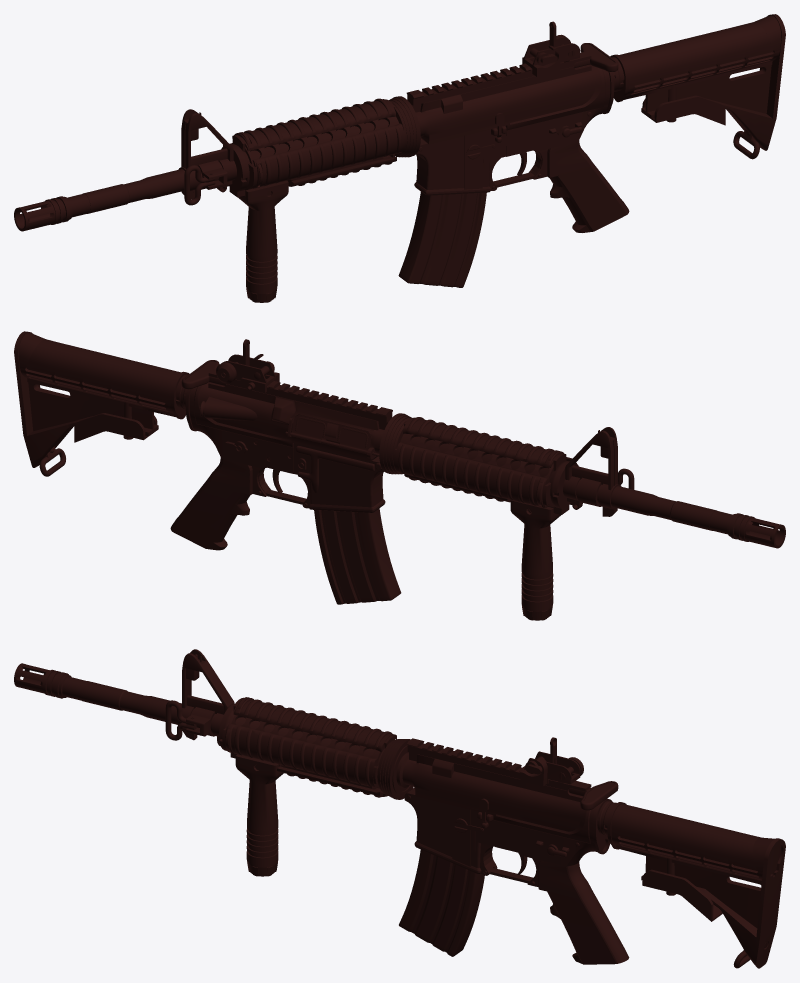
File: gun.glb
The picture shows the model from 3 angles, top to bottom: view 1: azimuth 30°, elevation 25°; view 2: azimuth 150°, elevation 25°; view 3: azimuth 330°, elevation 25°; orthographic projection.
Visible parts, largest first — view 1: Cylinder.079, Cylinder.080, Cylinder.083, Cylinder.081, Cylinder.082, Cylinder.068, Cylinder.084, Cylinder.001; view 2: Cylinder.079, Cylinder.080, Cylinder.083, Cylinder.081, Cylinder.082, Cylinder.068, Cylinder.084, Cylinder.086, Cylinder.001; view 3: Cylinder.079, Cylinder.080, Cylinder.083, Cylinder.081, Cylinder.082, Cylinder.068, Cylinder.084, Cylinder.001.
Boxes of the visible parts, <box> form: Cylinder.079: <box>619,14,785,159</box>; Cylinder.080: <box>389,54,628,157</box>; Cylinder.083: <box>14,109,288,302</box>; Cylinder.081: <box>221,98,406,192</box>; Cylinder.082: <box>414,113,629,232</box>; Cylinder.068: <box>398,150,487,287</box>; Cylinder.084: <box>406,21,591,105</box>; Cylinder.001: <box>573,43,618,71</box>; Cylinder.079: <box>14,331,180,476</box>; Cylinder.080: <box>171,371,411,474</box>; Cylinder.083: <box>510,427,785,620</box>; Cylinder.081: <box>393,417,578,509</box>; Cylinder.082: <box>170,443,385,550</box>; Cylinder.068: <box>314,508,401,604</box>; Cylinder.084: <box>208,339,392,422</box>; Cylinder.086: <box>291,415,371,454</box>; Cylinder.001: <box>181,360,225,389</box>; Cylinder.079: <box>611,804,785,968</box>; Cylinder.080: <box>377,739,626,866</box>; Cylinder.083: <box>14,649,283,876</box>; Cylinder.081: <box>219,697,396,797</box>; Cylinder.082: <box>404,787,629,964</box>; Cylinder.068: <box>399,830,484,956</box>; Cylinder.084: <box>407,737,591,791</box>; Cylinder.001: <box>569,781,618,810</box>.
Size of the model in its own units: 4.83 by 1.45 by 0.3836.
